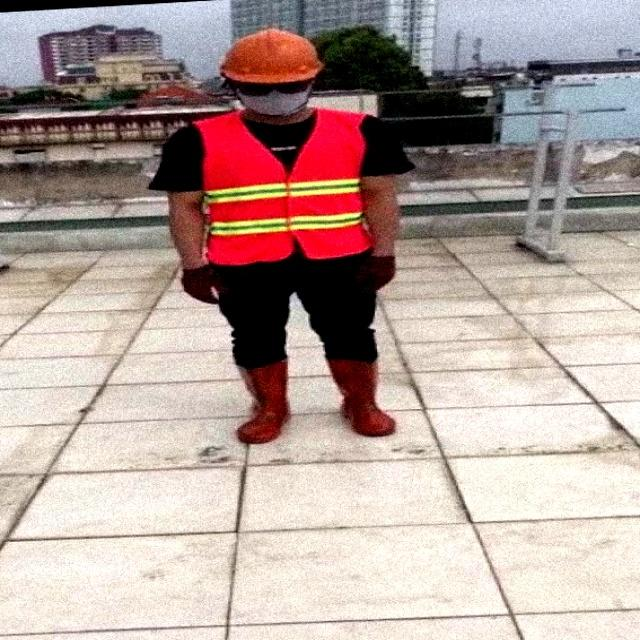helmet: (212, 29, 328, 80)
safety_vest: (194, 101, 378, 273)
